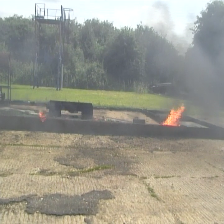fire_h: (162, 104, 186, 126)
fire_l: (38, 110, 47, 121)
